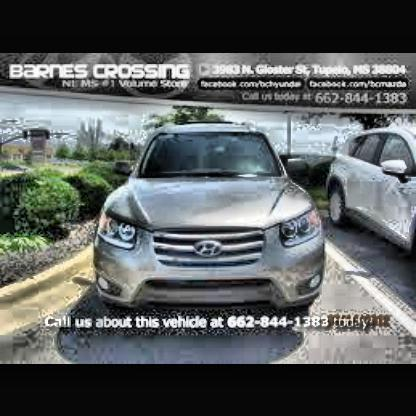Hyundai Santa Fe SUV 2012: (94, 125, 330, 317)
